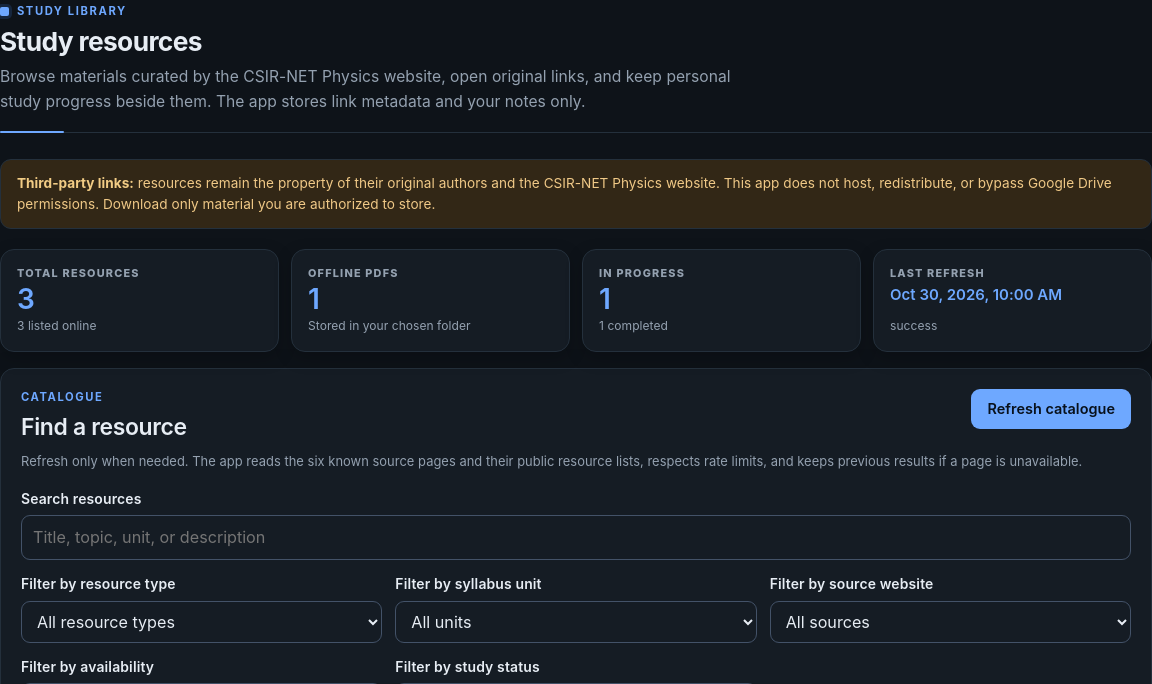
study resources screen › keeps resources visible when refresh is rate-limited
The image size is (1152, 684).
Click the button "Refresh catalogue". click: click(1051, 409)
box: [972,389,1131,429]
(page scrolled)
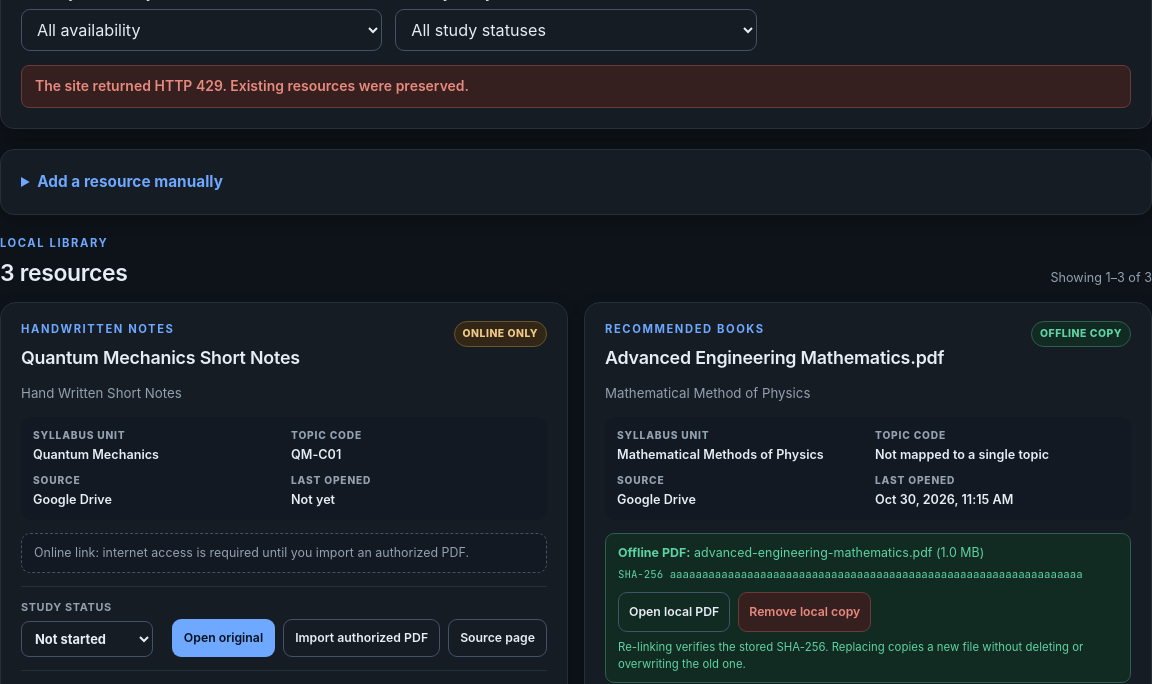
Check: the heading "Quantum Mechanics Short Notes" is shown, box [21,346,300,371]
Check: the text "The site returned HTTP 429. Existing resources were preserved." is shown, box [21,65,1131,108]
